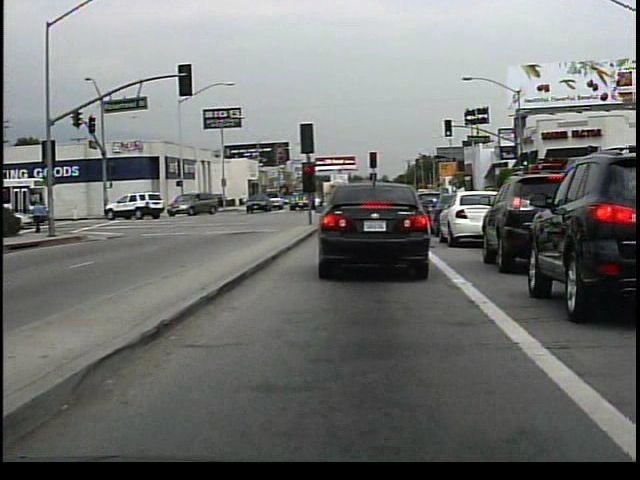person: (33, 197, 51, 238), (242, 187, 250, 209)
